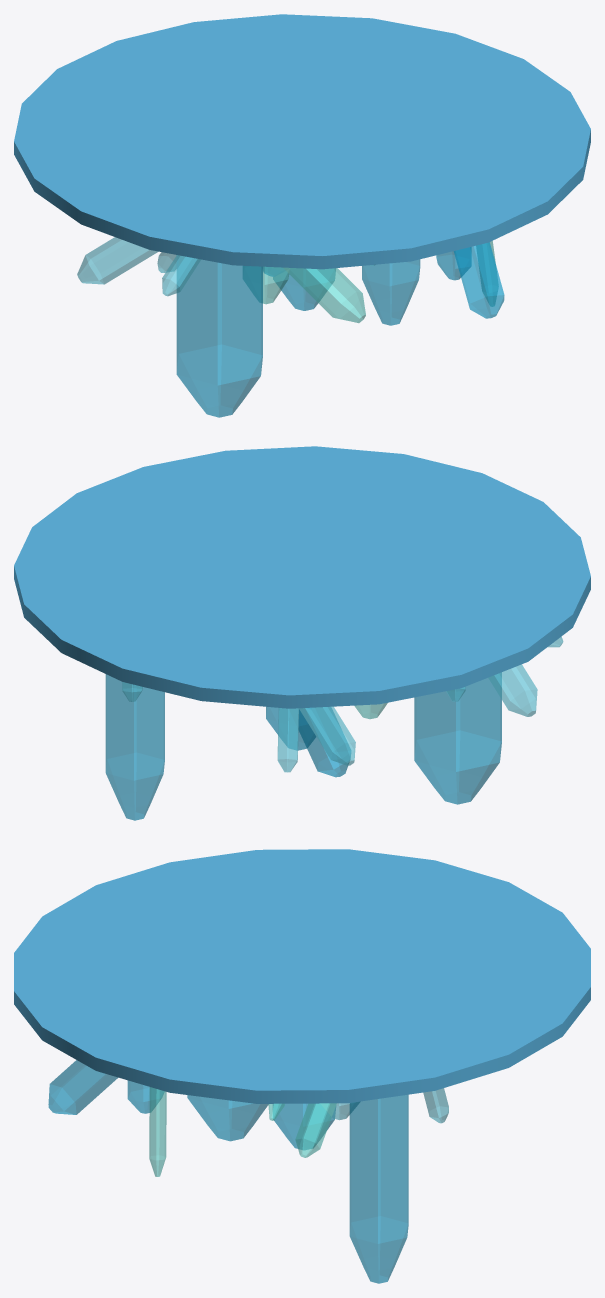
The picture shows the model from 3 angles, top to bottom: view 1: azimuth 30°, elevation 25°; view 2: azimuth 150°, elevation 25°; view 3: azimuth 270°, elevation 25°; orthographic projection.
Parts seen in each view (by area): view 1: pCylinder11, pCylinder16, pCylinder28, pCylinder20, pCylinder37, pCylinder39, pCylinder2, pCylinder27, pCylinder18, pCylinder7, pCylinder29; view 2: pCylinder11, pCylinder16, pCylinder28, pCylinder32, pCylinder33, pCylinder39, pCylinder2, pCylinder34; view 3: pCylinder11, pCylinder28, pCylinder20, pCylinder16, pCylinder2, pCylinder18, pCylinder15, pCylinder29, pCylinder4.
Boxes of the visible parts, left/top/right/bottom form: pCylinder11: left=14, top=14, right=590, bottom=269; pCylinder16: left=176, top=255, right=262, bottom=417; pCylinder28: left=362, top=259, right=420, bottom=325; pCylinder20: left=454, top=242, right=504, bottom=318; pCylinder37: left=283, top=267, right=365, bottom=322; pCylinder39: left=77, top=237, right=157, bottom=284; pCylinder2: left=273, top=268, right=335, bottom=310; pCylinder27: left=243, top=266, right=289, bottom=304; pCylinder18: left=476, top=241, right=498, bottom=306; pCylinder7: left=162, top=255, right=200, bottom=296; pCylinder29: left=436, top=247, right=471, bottom=280; pCylinder11: left=14, top=446, right=590, bottom=708; pCylinder16: left=414, top=673, right=501, bottom=804; pCylinder28: left=105, top=674, right=164, bottom=820; pCylinder32: left=289, top=707, right=350, bottom=777; pCylinder33: left=299, top=706, right=355, bottom=765; pCylinder39: left=488, top=664, right=537, bottom=716; pCylinder2: left=266, top=706, right=315, bottom=750; pCylinder34: left=277, top=708, right=298, bottom=772; pCylinder11: left=14, top=849, right=590, bottom=1103; pCylinder28: left=349, top=1095, right=408, bottom=1283; pCylinder20: left=48, top=1060, right=117, bottom=1114; pCylinder16: left=187, top=1095, right=268, bottom=1141; pCylinder2: left=273, top=1103, right=335, bottom=1149; pCylinder18: left=149, top=1087, right=166, bottom=1176; pCylinder15: left=295, top=1103, right=336, bottom=1157; pCylinder29: left=127, top=1080, right=164, bottom=1113; pCylinder4: left=423, top=1088, right=448, bottom=1123.
Bounding box in the file's own units: 3.6 × 1.72 × 3.64.
